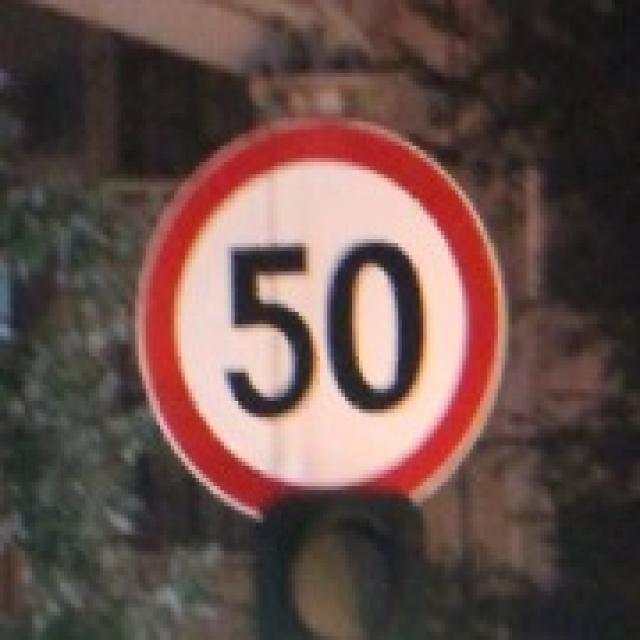Speed Limit -50-: (222, 232, 430, 425)
